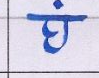anusvara: (53, 1, 63, 9)
